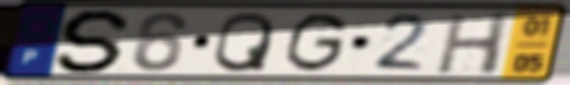2: (367, 10, 435, 76)
6: (130, 9, 190, 73)
G: (281, 10, 351, 74)
H: (433, 10, 514, 77)
Q: (210, 10, 278, 75)
S: (52, 7, 137, 75)
